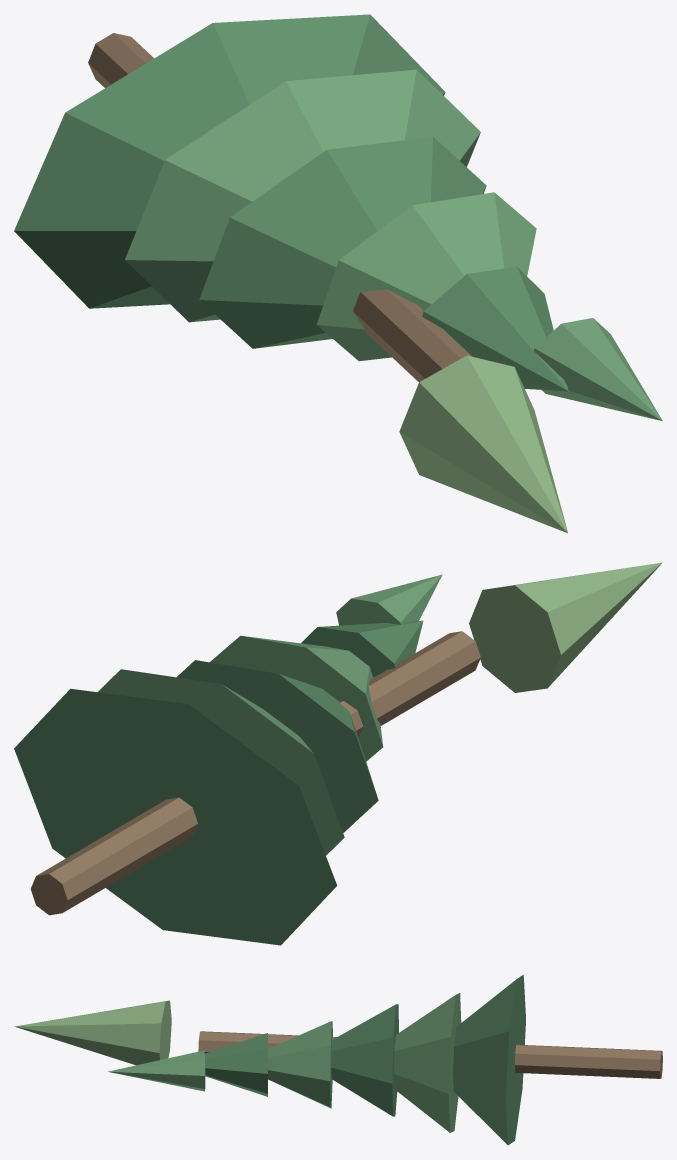
The model's file is Midgard_Nordic_Wind_Pine.glb.
3 views of the same model, one above another, from view 1: azimuth 30°, elevation 25°; view 2: azimuth 150°, elevation 25°; view 3: azimuth 270°, elevation 25° (orthographic). The views are drawn at different scales.
Visible parts, largest first — view 1: world; view 2: world; view 3: world.
Boxes of the visible parts, left/top/right/bottom form: world: left=14, top=14, right=662, bottom=533; world: left=14, top=562, right=662, bottom=945; world: left=14, top=974, right=662, bottom=1145.
Size of the model in its own units: 3.43 by 2.25 by 8.66.
